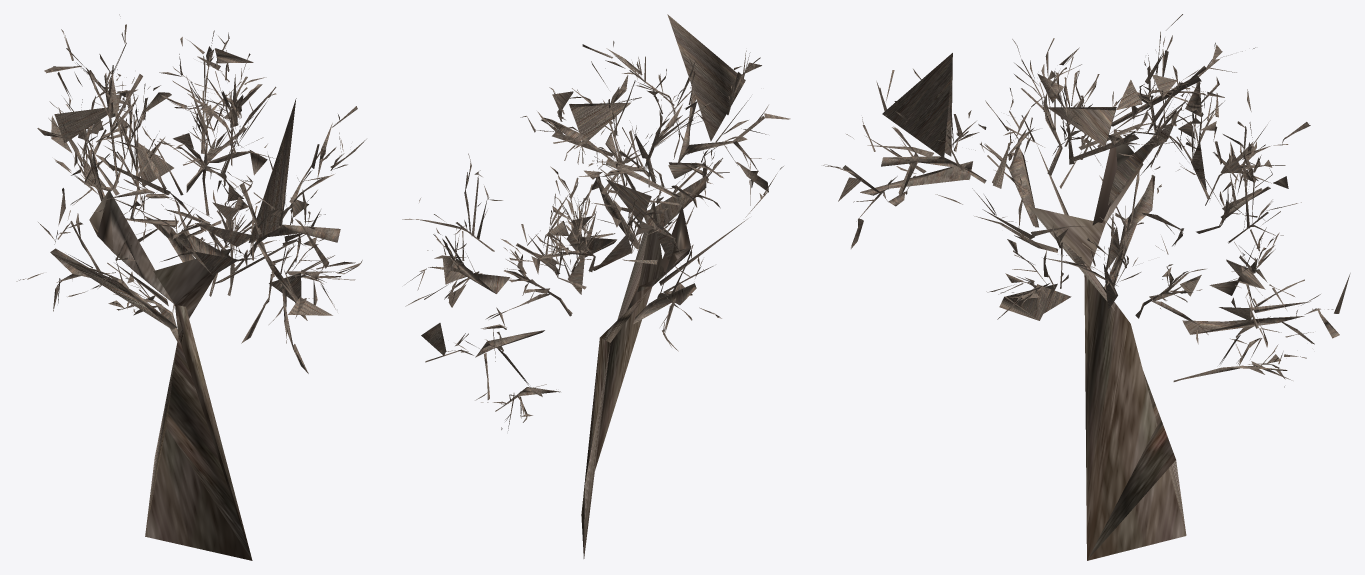
File: broadleaf-low.glb
The picture shows the model from 3 angles, left to right: view 1: azimuth 30°, elevation 25°; view 2: azimuth 150°, elevation 25°; view 3: azimuth 270°, elevation 25°; orthographic projection. The views are drawn at different scales.
Visible parts, largest first — view 1: tree_small_02_LOD0 baked baked; view 2: tree_small_02_LOD0 baked baked; view 3: tree_small_02_LOD0 baked baked.
Boxes of the visible parts, <box> form: tree_small_02_LOD0 baked baked: <box>16,14,366,560</box>; tree_small_02_LOD0 baked baked: <box>402,14,790,558</box>; tree_small_02_LOD0 baked baked: <box>823,14,1350,560</box>.
Size of the model in its own units: 2.53 by 4.24 by 4.1.
2 materials, 2 textured.
